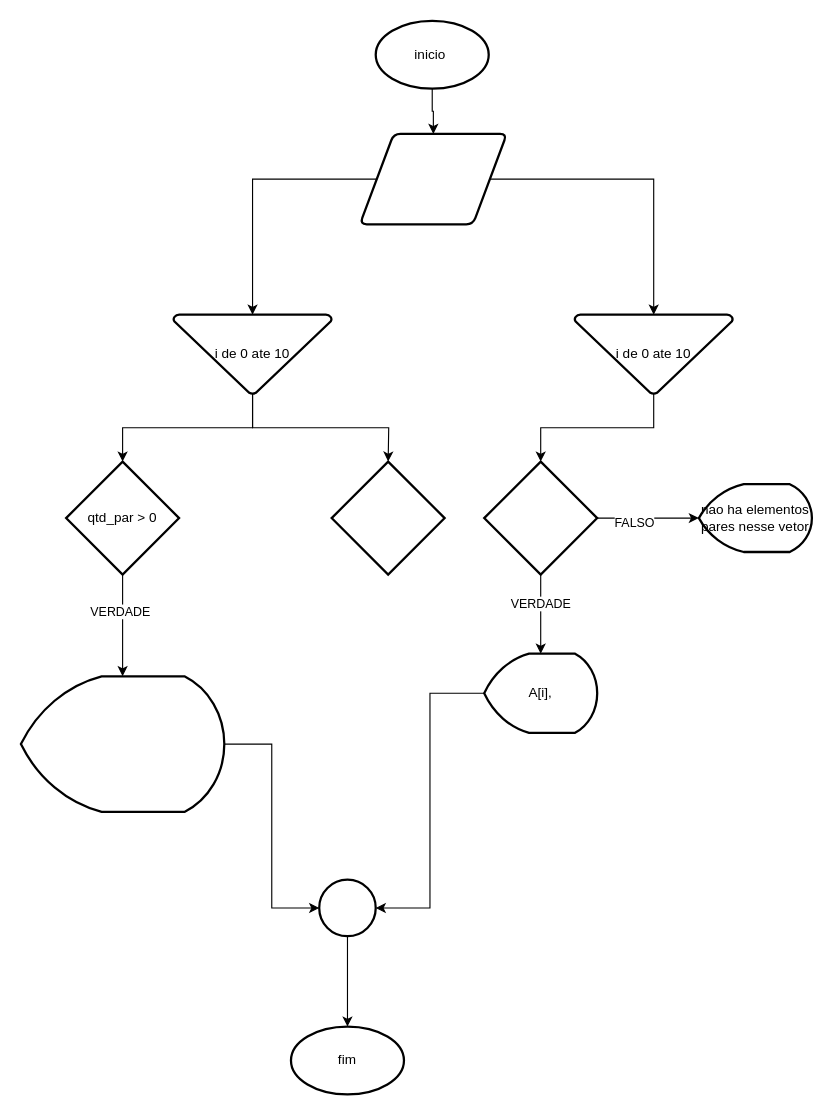
The diagram is 832 pixels wide and 1114 high, and some of its shapes have lost their labels. Each missing label, with the centre of its shape:
"A media dos elementos pares é: media numeros maiores que a media" belongs at (122,743).
"A[10], soma_par, qtd_par, i, media" belongs at (432,178).
"A[i] % 2 =0" belongs at (387,517).
"A[i] > media" belongs at (540,517).
